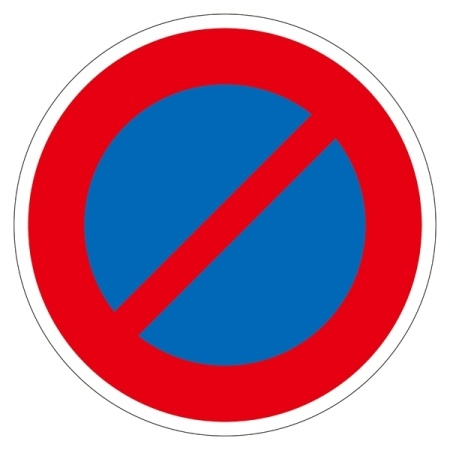Prohibition_sign: (1, 1, 449, 448)
